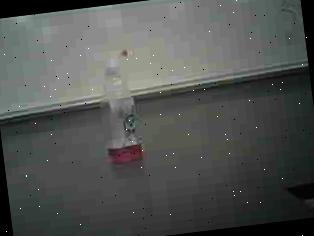hazard: (92, 48, 153, 169)
